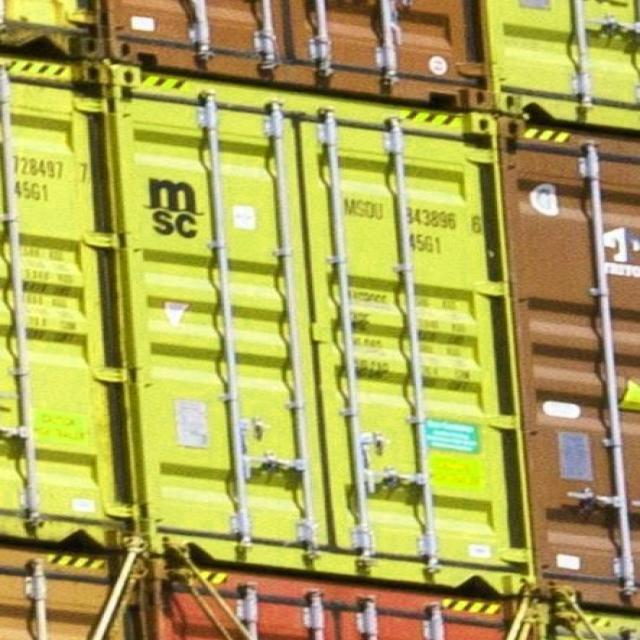ISO: (408, 228, 446, 256)
container_number: (346, 193, 476, 230)
